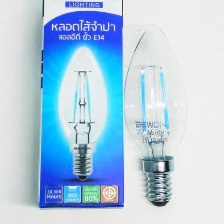carton: (32, 0, 127, 213)
light_bulb: (119, 19, 191, 213)
